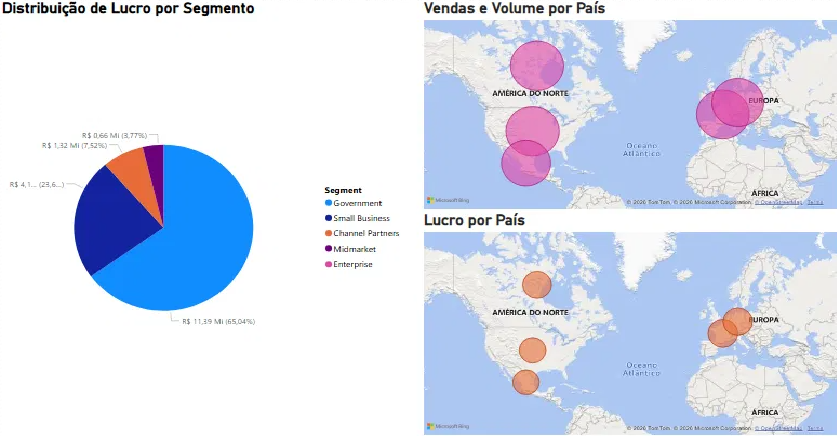

Layout of this report page (visuals, bound fields, positions):
{"tool":"powerbi","page":{"name":"Análise Geográfica e por Segmento","canvas":[1280,720],"ordinal":2},"visuals":[{"type":"map","title":"Vendas e Volume por País","fields":{"Category":["financials.Country"],"Size":["Sum(financials. Sales)"]},"box":[639.3,0,641.1,348.2],"z":0},{"type":"actionButton","box":[0,0,100,40],"z":1000},{"type":"map","title":"Lucro por País","fields":{"Category":["financials.Country"],"Size":["Sum(financials.Profit)"]},"box":[639.3,348.2,641.1,371.4],"z":2000},{"type":"pieChart","title":"Distribuição de Lucro por Segmento","fields":{"Category":["financials.Segment"],"Y":["Sum(financials.Profit)"]},"box":[0,0,621.4,719.6],"z":3000}]}

Visuals, with their boxes on the page's 1280x720 design canvas (x1, y1, x2, y2). These are canvas units, not pixel positions in the 837x436 screenshot, which may show the page scaled, cropped or inside an application window:
"Vendas e Volume por País" map: region(639, 0, 1280, 348)
actionButton: region(0, 0, 100, 40)
"Lucro por País" map: region(639, 348, 1280, 720)
"Distribuição de Lucro por Segmento" pieChart: region(0, 0, 621, 720)
